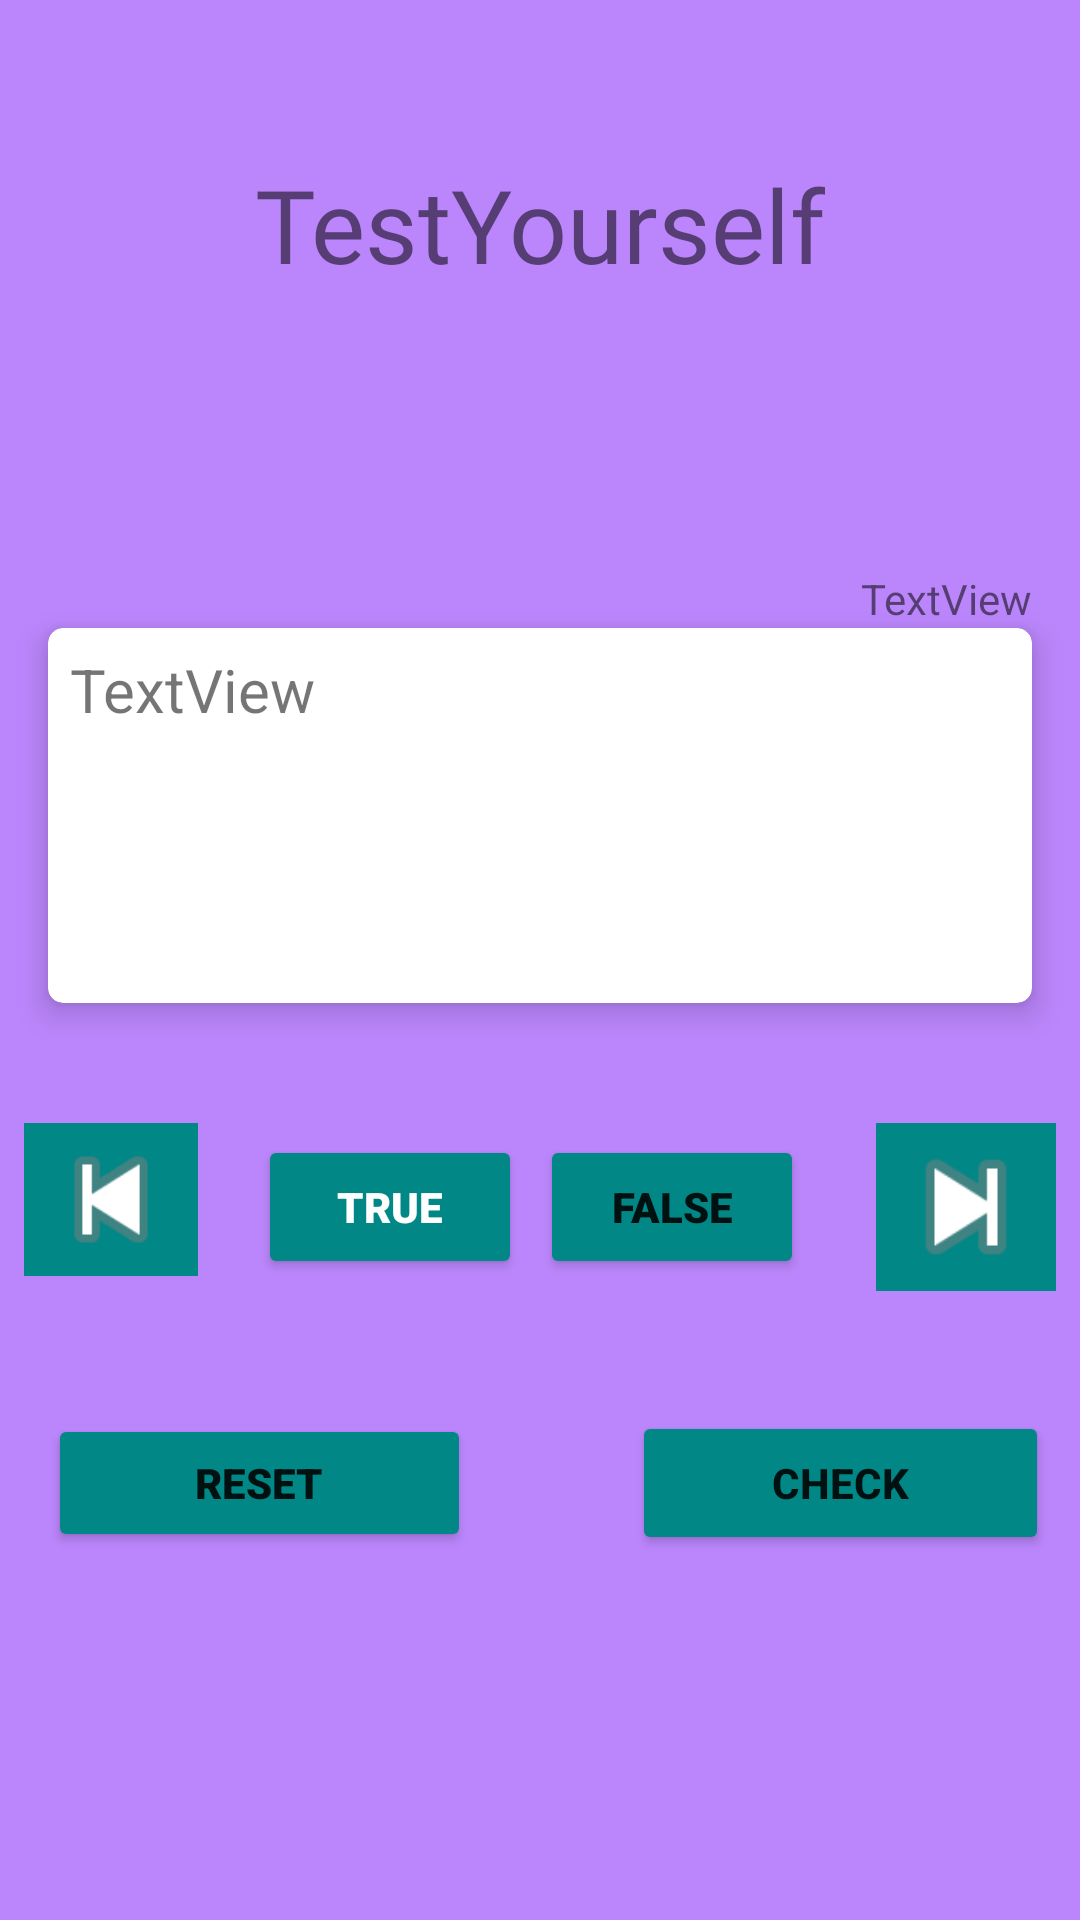

Screen size 1080px x 1920px. Icon name, then its center in pixels as (x=x, y=y):
next: (x=966, y=1207)
previous: (x=111, y=1199)
